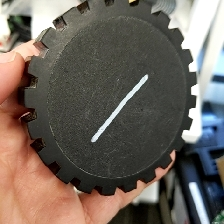gear: (17, 1, 198, 197)
